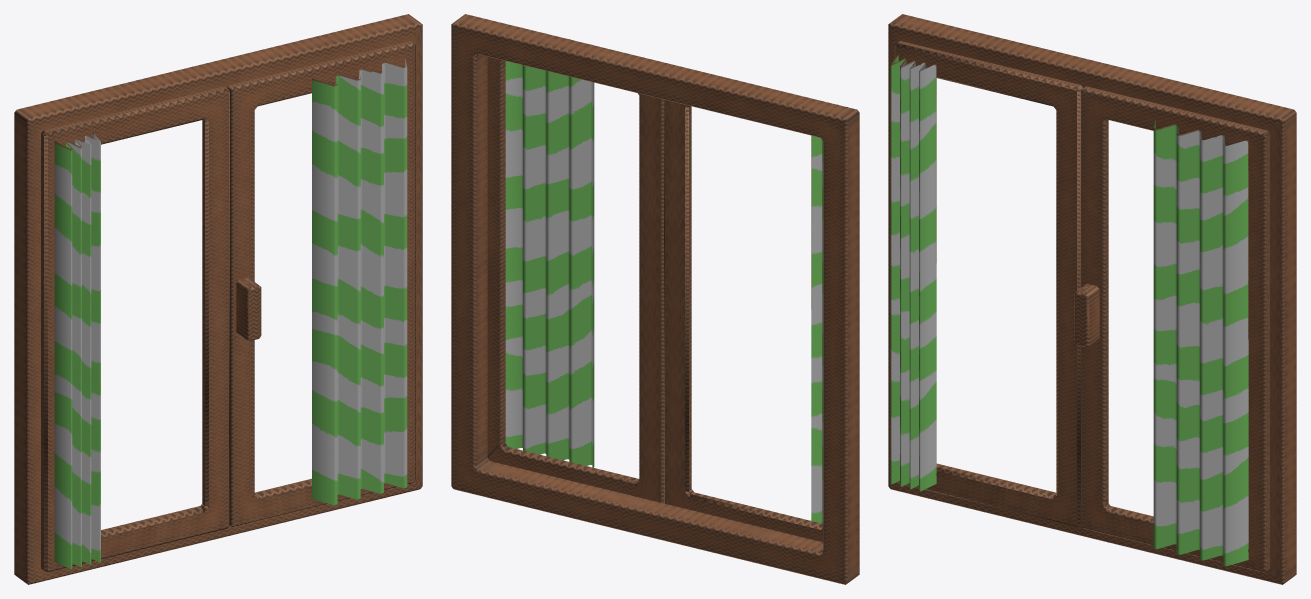
File: window.glb
3 renders of one model, left to right at view 1: azimuth 30°, elevation 25°; view 2: azimuth 150°, elevation 25°; view 3: azimuth 330°, elevation 25°, orthographic.
Visible parts, largest first — view 1: window_side.001; view 2: window_side.001; view 3: window_side.001.
Part boxes in pixels (x1,y1,x2,y2): window_side.001: (14, 14, 422, 584); window_side.001: (451, 14, 859, 584); window_side.001: (888, 14, 1296, 584).
Bounding box in the file's own units: 1.6 × 1.8 × 0.2398.
1 material, 1 textured.
